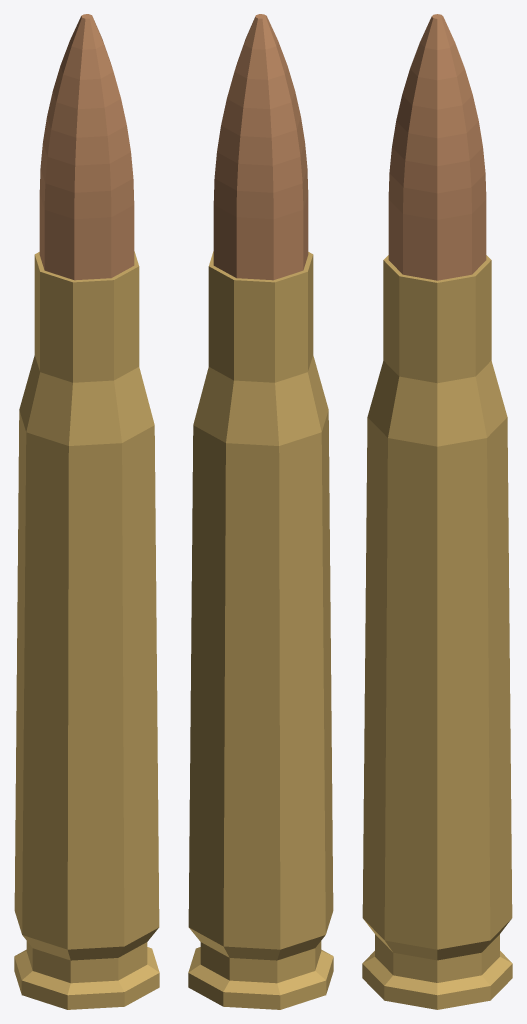
Rendered from round_3006.glb.
The picture shows the model from 3 angles, left to right: view 1: azimuth 30°, elevation 25°; view 2: azimuth 150°, elevation 25°; view 3: azimuth 270°, elevation 25°; orthographic projection.
Visible parts, largest first — view 1: round_3006; view 2: round_3006; view 3: round_3006.
Part boxes in pixels (box(x1,y1,x2,y2)): round_3006: box(14, 14, 159, 1009); round_3006: box(188, 14, 333, 1009); round_3006: box(362, 14, 512, 1009).
Bounding box in the file's own units: 0.012 × 0.0848 × 0.012.
